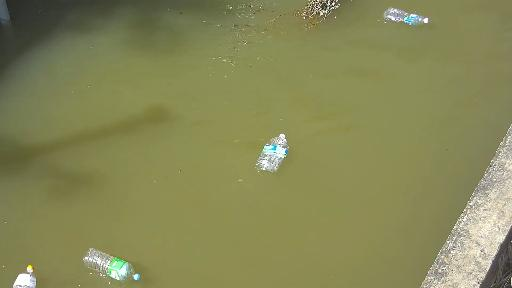plastic: (78, 248, 148, 282), (260, 128, 293, 172), (375, 3, 430, 27), (12, 264, 43, 288)
twig: (273, 0, 350, 32)
